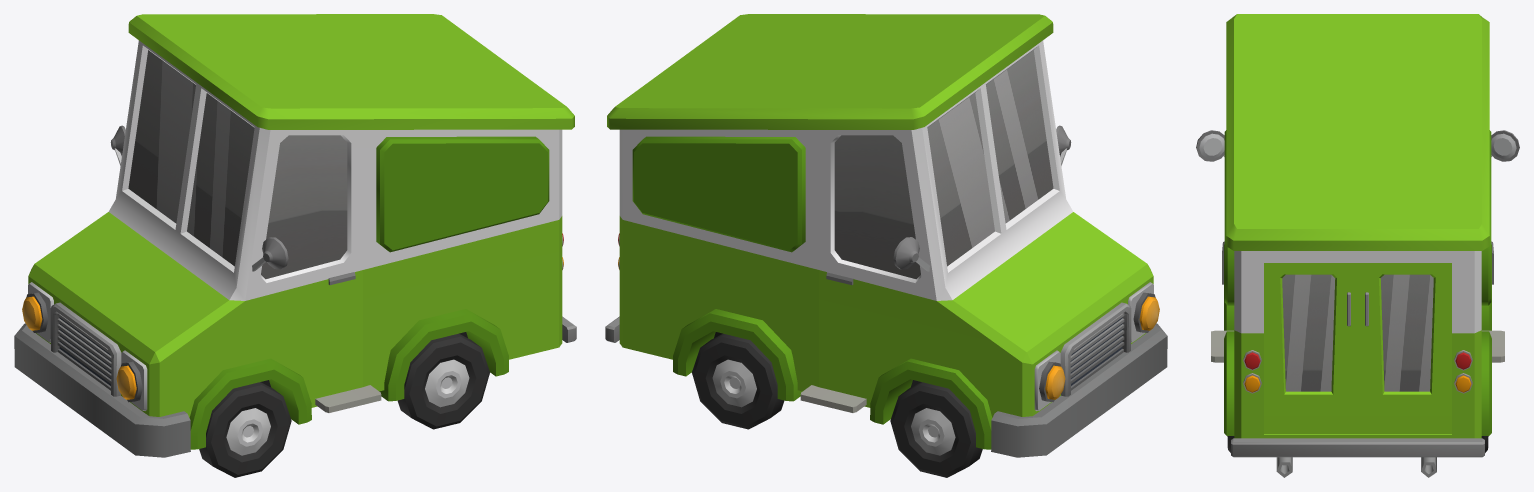
Rendered from Car_15_G.gltf.
3 views of the same model, side by side, from view 1: azimuth 30°, elevation 25°; view 2: azimuth 150°, elevation 25°; view 3: azimuth 270°, elevation 25° (orthographic). The views are drawn at different scales.
Parts seen in each view (by area): view 1: Car_15_G, RL, FL; view 2: Car_15_G, RR, FR; view 3: Car_15_G.
Boxes of the visible parts, x1,y1,x2,y2 form: Car_15_G: (14, 14, 576, 457); RL: (397, 333, 489, 429); FL: (199, 382, 291, 477); Car_15_G: (605, 14, 1167, 457); RR: (692, 333, 784, 429); FR: (890, 382, 982, 477); Car_15_G: (1196, 14, 1519, 477).
Size of the model in its own units: 2.75 by 2.13 by 1.8.
4 materials, 4 textured.
